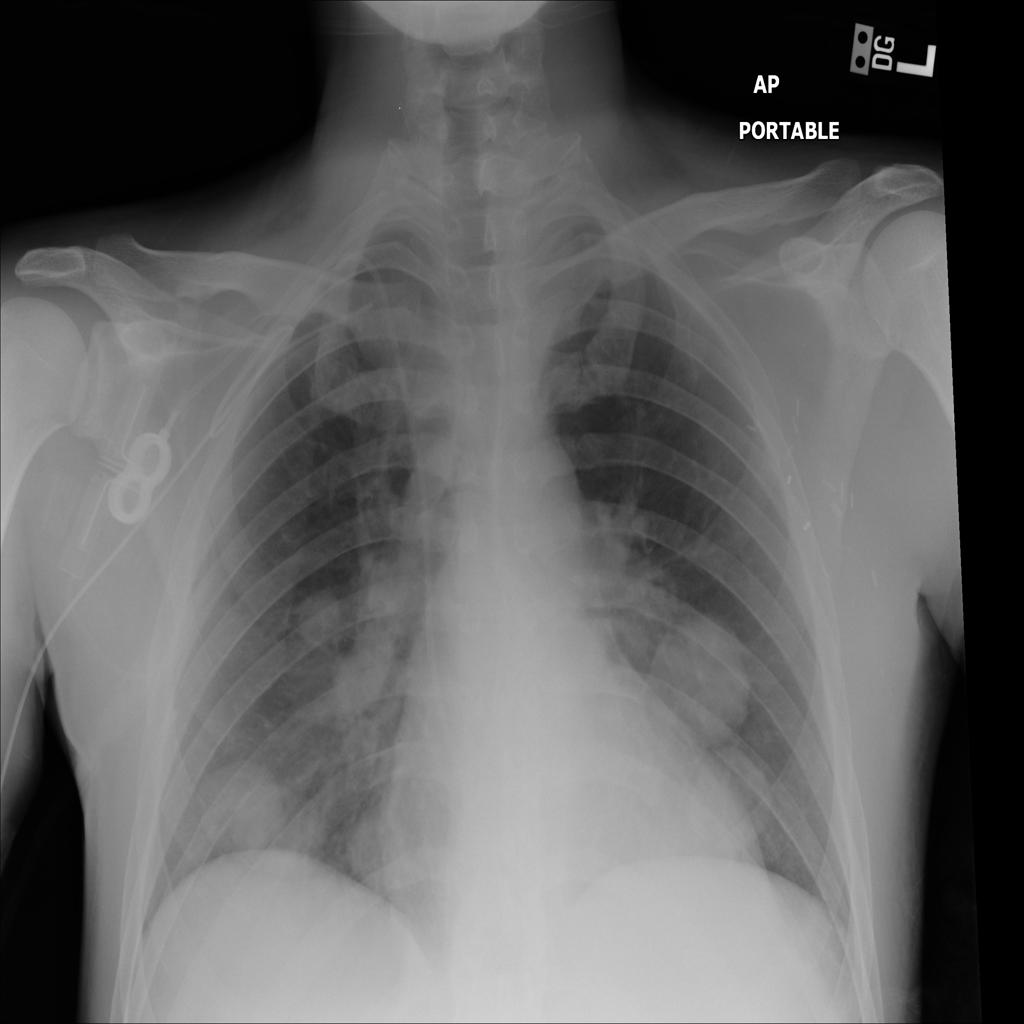nodule: (637, 602, 767, 765), (664, 742, 779, 871), (197, 747, 312, 872), (289, 581, 356, 657), (275, 793, 340, 867)
